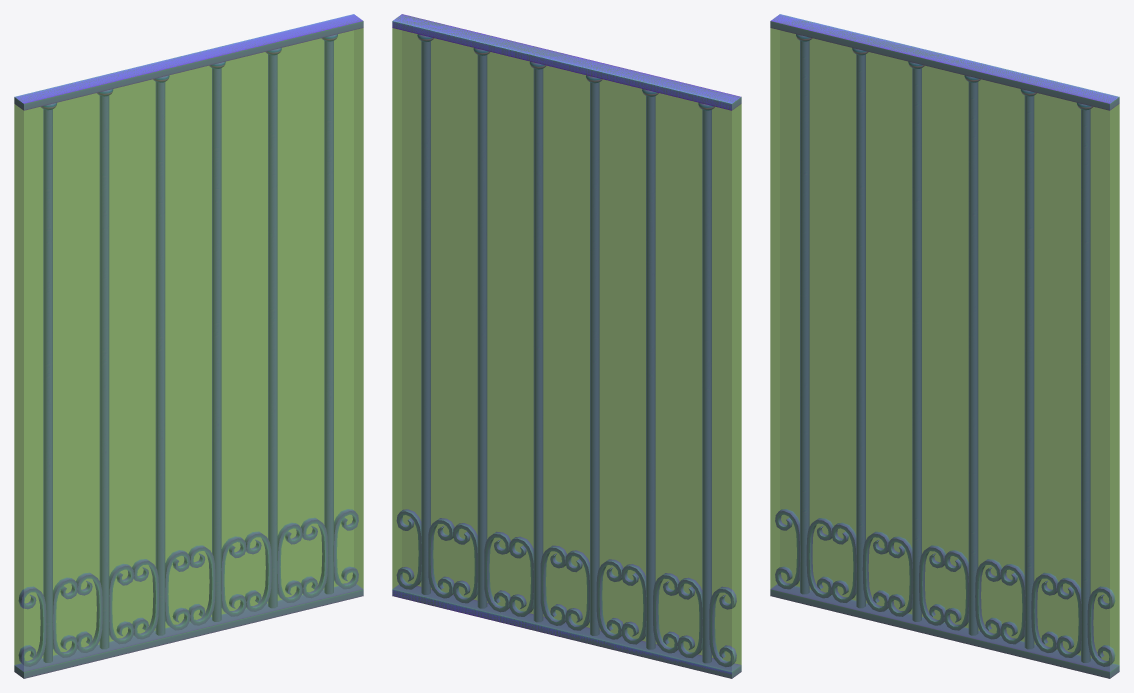
Rendered from F_Cage_S_03.fbx.
The picture shows the model from 3 angles, left to right: view 1: azimuth 30°, elevation 25°; view 2: azimuth 150°, elevation 25°; view 3: azimuth 330°, elevation 25°; orthographic projection.
Parts seen in each view (by area): view 1: F_Cage_S_03_col_01, F_Cage_S_03_LOD0; view 2: F_Cage_S_03_col_01, F_Cage_S_03_LOD0; view 3: F_Cage_S_03_col_01, F_Cage_S_03_LOD0.
Boxes of the visible parts, left/top/right/bottom form: F_Cage_S_03_col_01: left=14, top=20, right=363, bottom=678; F_Cage_S_03_LOD0: left=14, top=14, right=363, bottom=678; F_Cage_S_03_col_01: left=392, top=14, right=741, bottom=678; F_Cage_S_03_LOD0: left=392, top=14, right=741, bottom=678; F_Cage_S_03_col_01: left=770, top=14, right=1119, bottom=678; F_Cage_S_03_LOD0: left=770, top=14, right=1119, bottom=678.
Size of what is drawn, in the model's own units: 102 by 165 by 5.04.
Materials: 2 (1 with a texture image).
